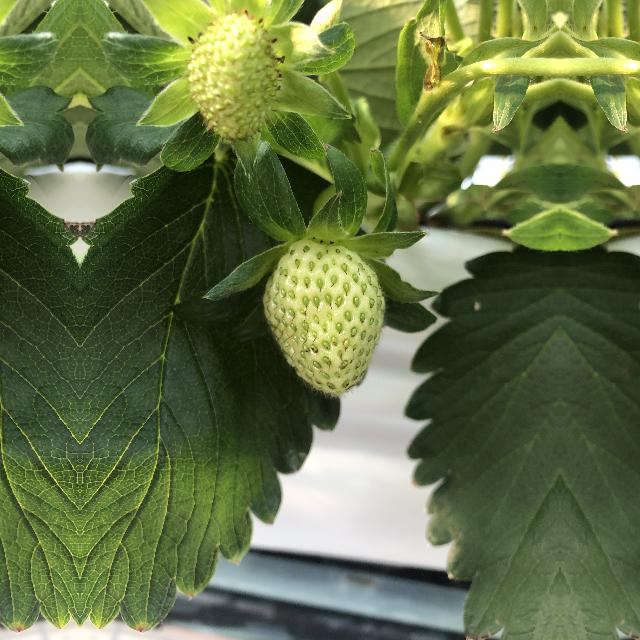Health_25: (265, 223, 385, 399), (184, 7, 288, 145)
